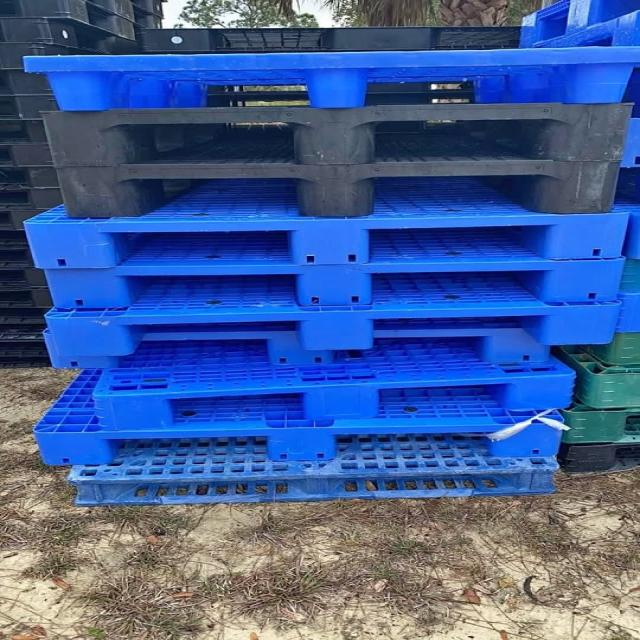non-igps: (15, 198, 637, 275), (30, 285, 636, 363), (18, 42, 639, 118), (33, 97, 640, 172), (78, 350, 583, 435), (53, 151, 631, 221), (18, 404, 581, 475), (53, 438, 570, 512), (42, 252, 638, 316), (31, 322, 556, 376), (135, 16, 533, 56), (536, 338, 640, 416), (508, 0, 640, 58), (0, 0, 147, 46), (544, 385, 640, 448), (0, 36, 131, 80), (538, 434, 640, 478), (70, 0, 169, 31), (116, 0, 174, 22)
